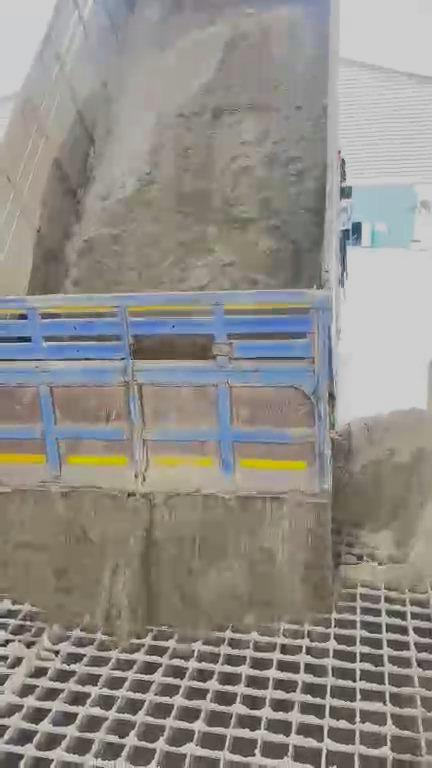sand: (72, 15, 327, 291), (1, 491, 330, 638), (333, 410, 432, 586)
